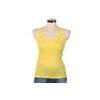canottiera: (36, 28, 65, 77)
